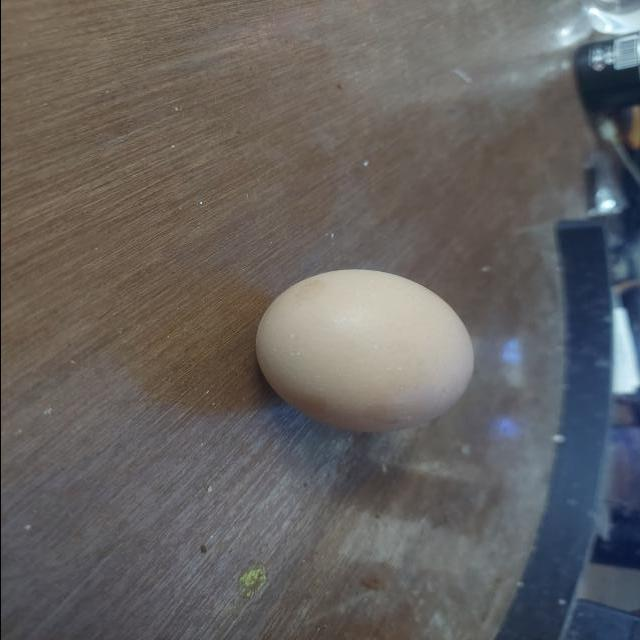egg: (243, 267, 477, 449)
